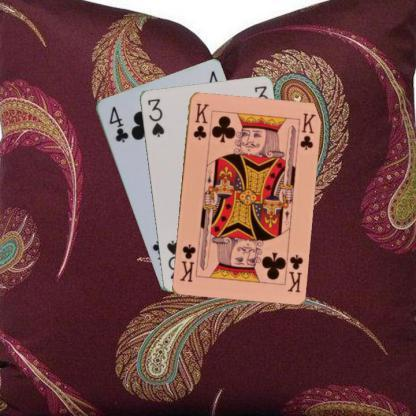3s: (145, 96, 165, 138)
4c: (104, 103, 130, 144)
Kc: (190, 101, 210, 142), (285, 251, 304, 294)
